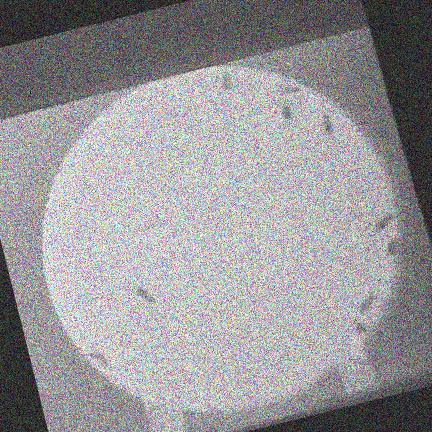fly: (132, 282, 154, 303), (372, 212, 395, 232), (88, 346, 108, 366), (281, 97, 294, 125), (359, 290, 375, 312), (322, 111, 334, 137), (280, 81, 300, 94), (351, 318, 367, 334), (387, 237, 400, 256), (221, 69, 232, 89)
